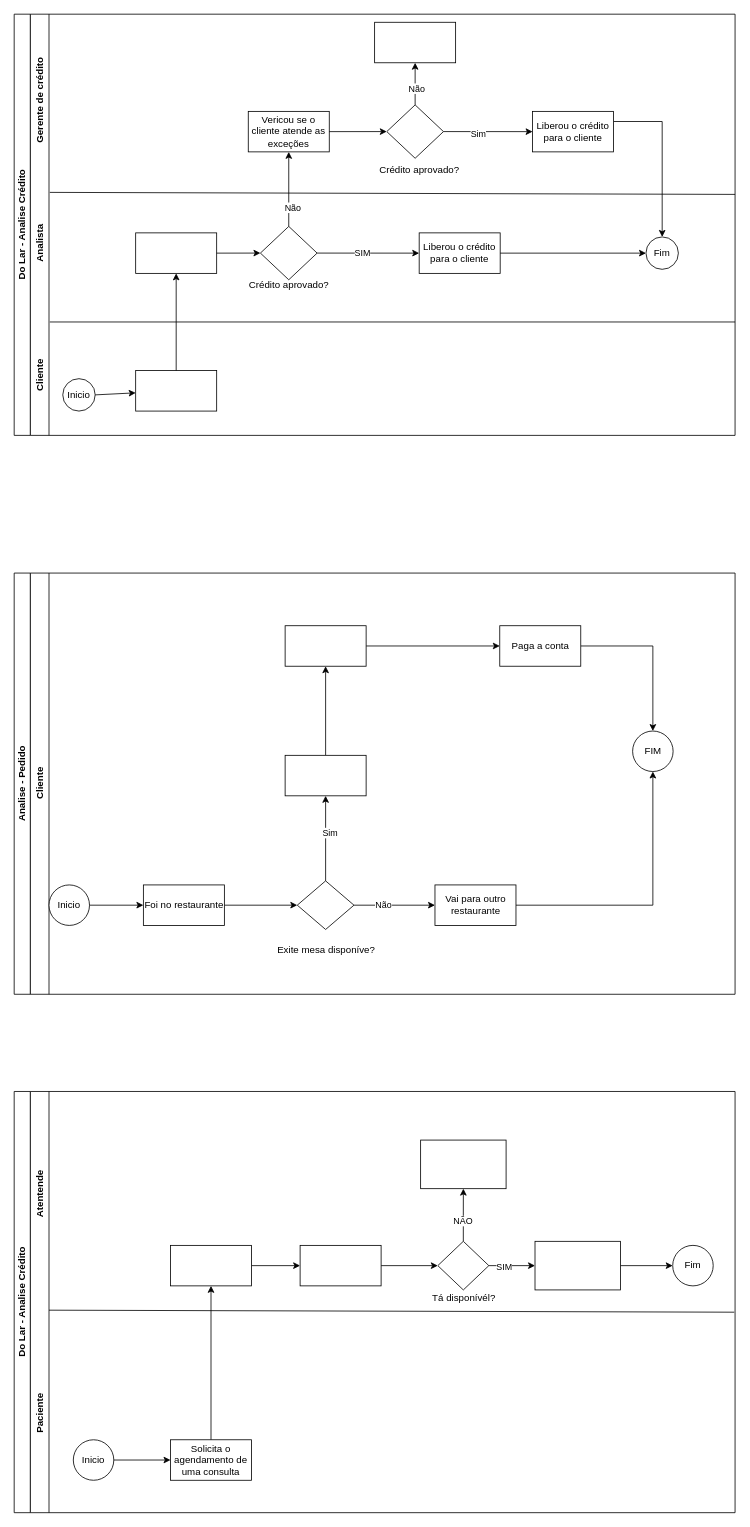
Image size: 750x1527. Some labels were removed from this diagram. The centre of each missing label's shape, as x and y in pixels:
Analizou a solicitação: pixel 176 252
Cliente solicitou o crédito: pixel 176 390
Consome o pedido: pixel 325 645
Faz o pedido: pixel 325 775
Informa o paciente para tentar outro horário: pixel 463 1164
Recebe a solicitação: pixel 211 1265
Registra o agendamento no sistema: pixel 577 1265
Registrou a rejeição do crédito: pixel 415 42
Verifica se o dia/hora está disponivél: pixel 340 1265
